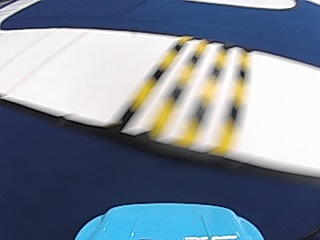bump: (117, 36, 251, 146)
